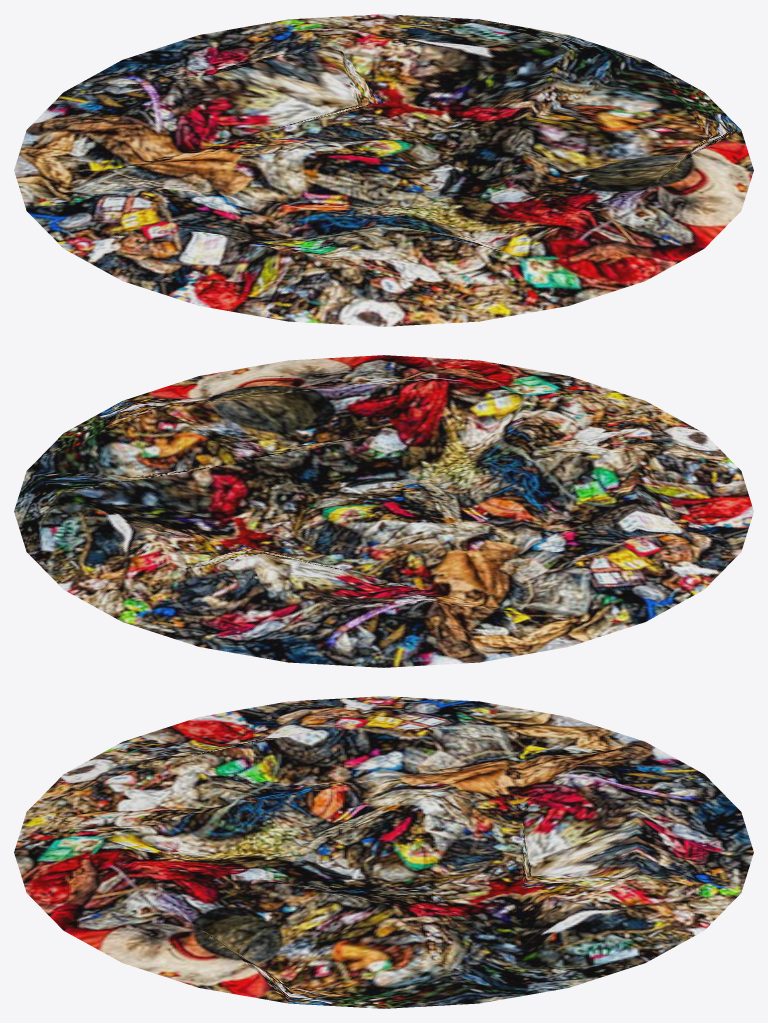
Rendered from trash.fbx.
The picture shows the model from 3 angles, top to bottom: view 1: azimuth 30°, elevation 25°; view 2: azimuth 150°, elevation 25°; view 3: azimuth 270°, elevation 25°; orthographic projection.
Visible parts, largest first — view 1: pDisc1; view 2: pDisc1; view 3: pDisc1.
Part boxes in pixels (left/top/right/bottom): pDisc1: left=14, top=14, right=753, bottom=326; pDisc1: left=14, top=355, right=753, bottom=667; pDisc1: left=14, top=696, right=753, bottom=1008.
Size of the model in its own units: 4.79 by 0.1577 by 4.79.
Materials: 1 (1 with a texture image).
